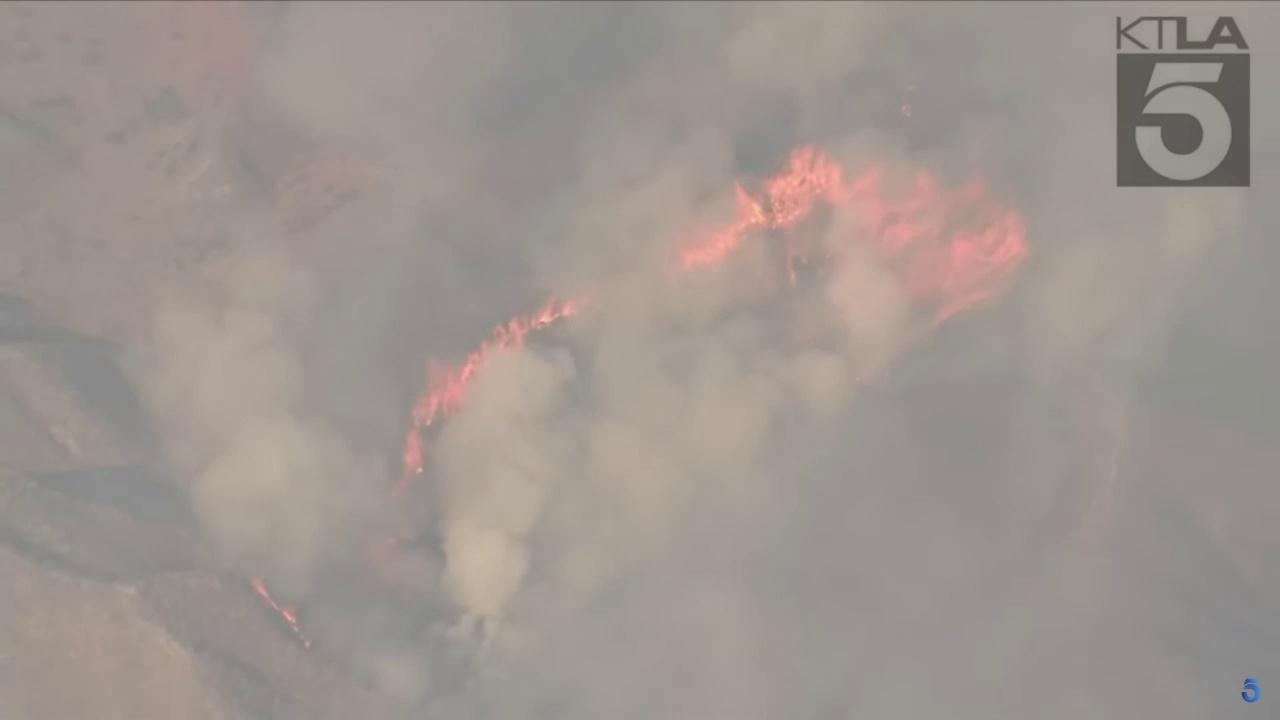fire: (675, 138, 1034, 329), (395, 288, 585, 484), (247, 574, 315, 653)
smoke: (120, 0, 1280, 720)
